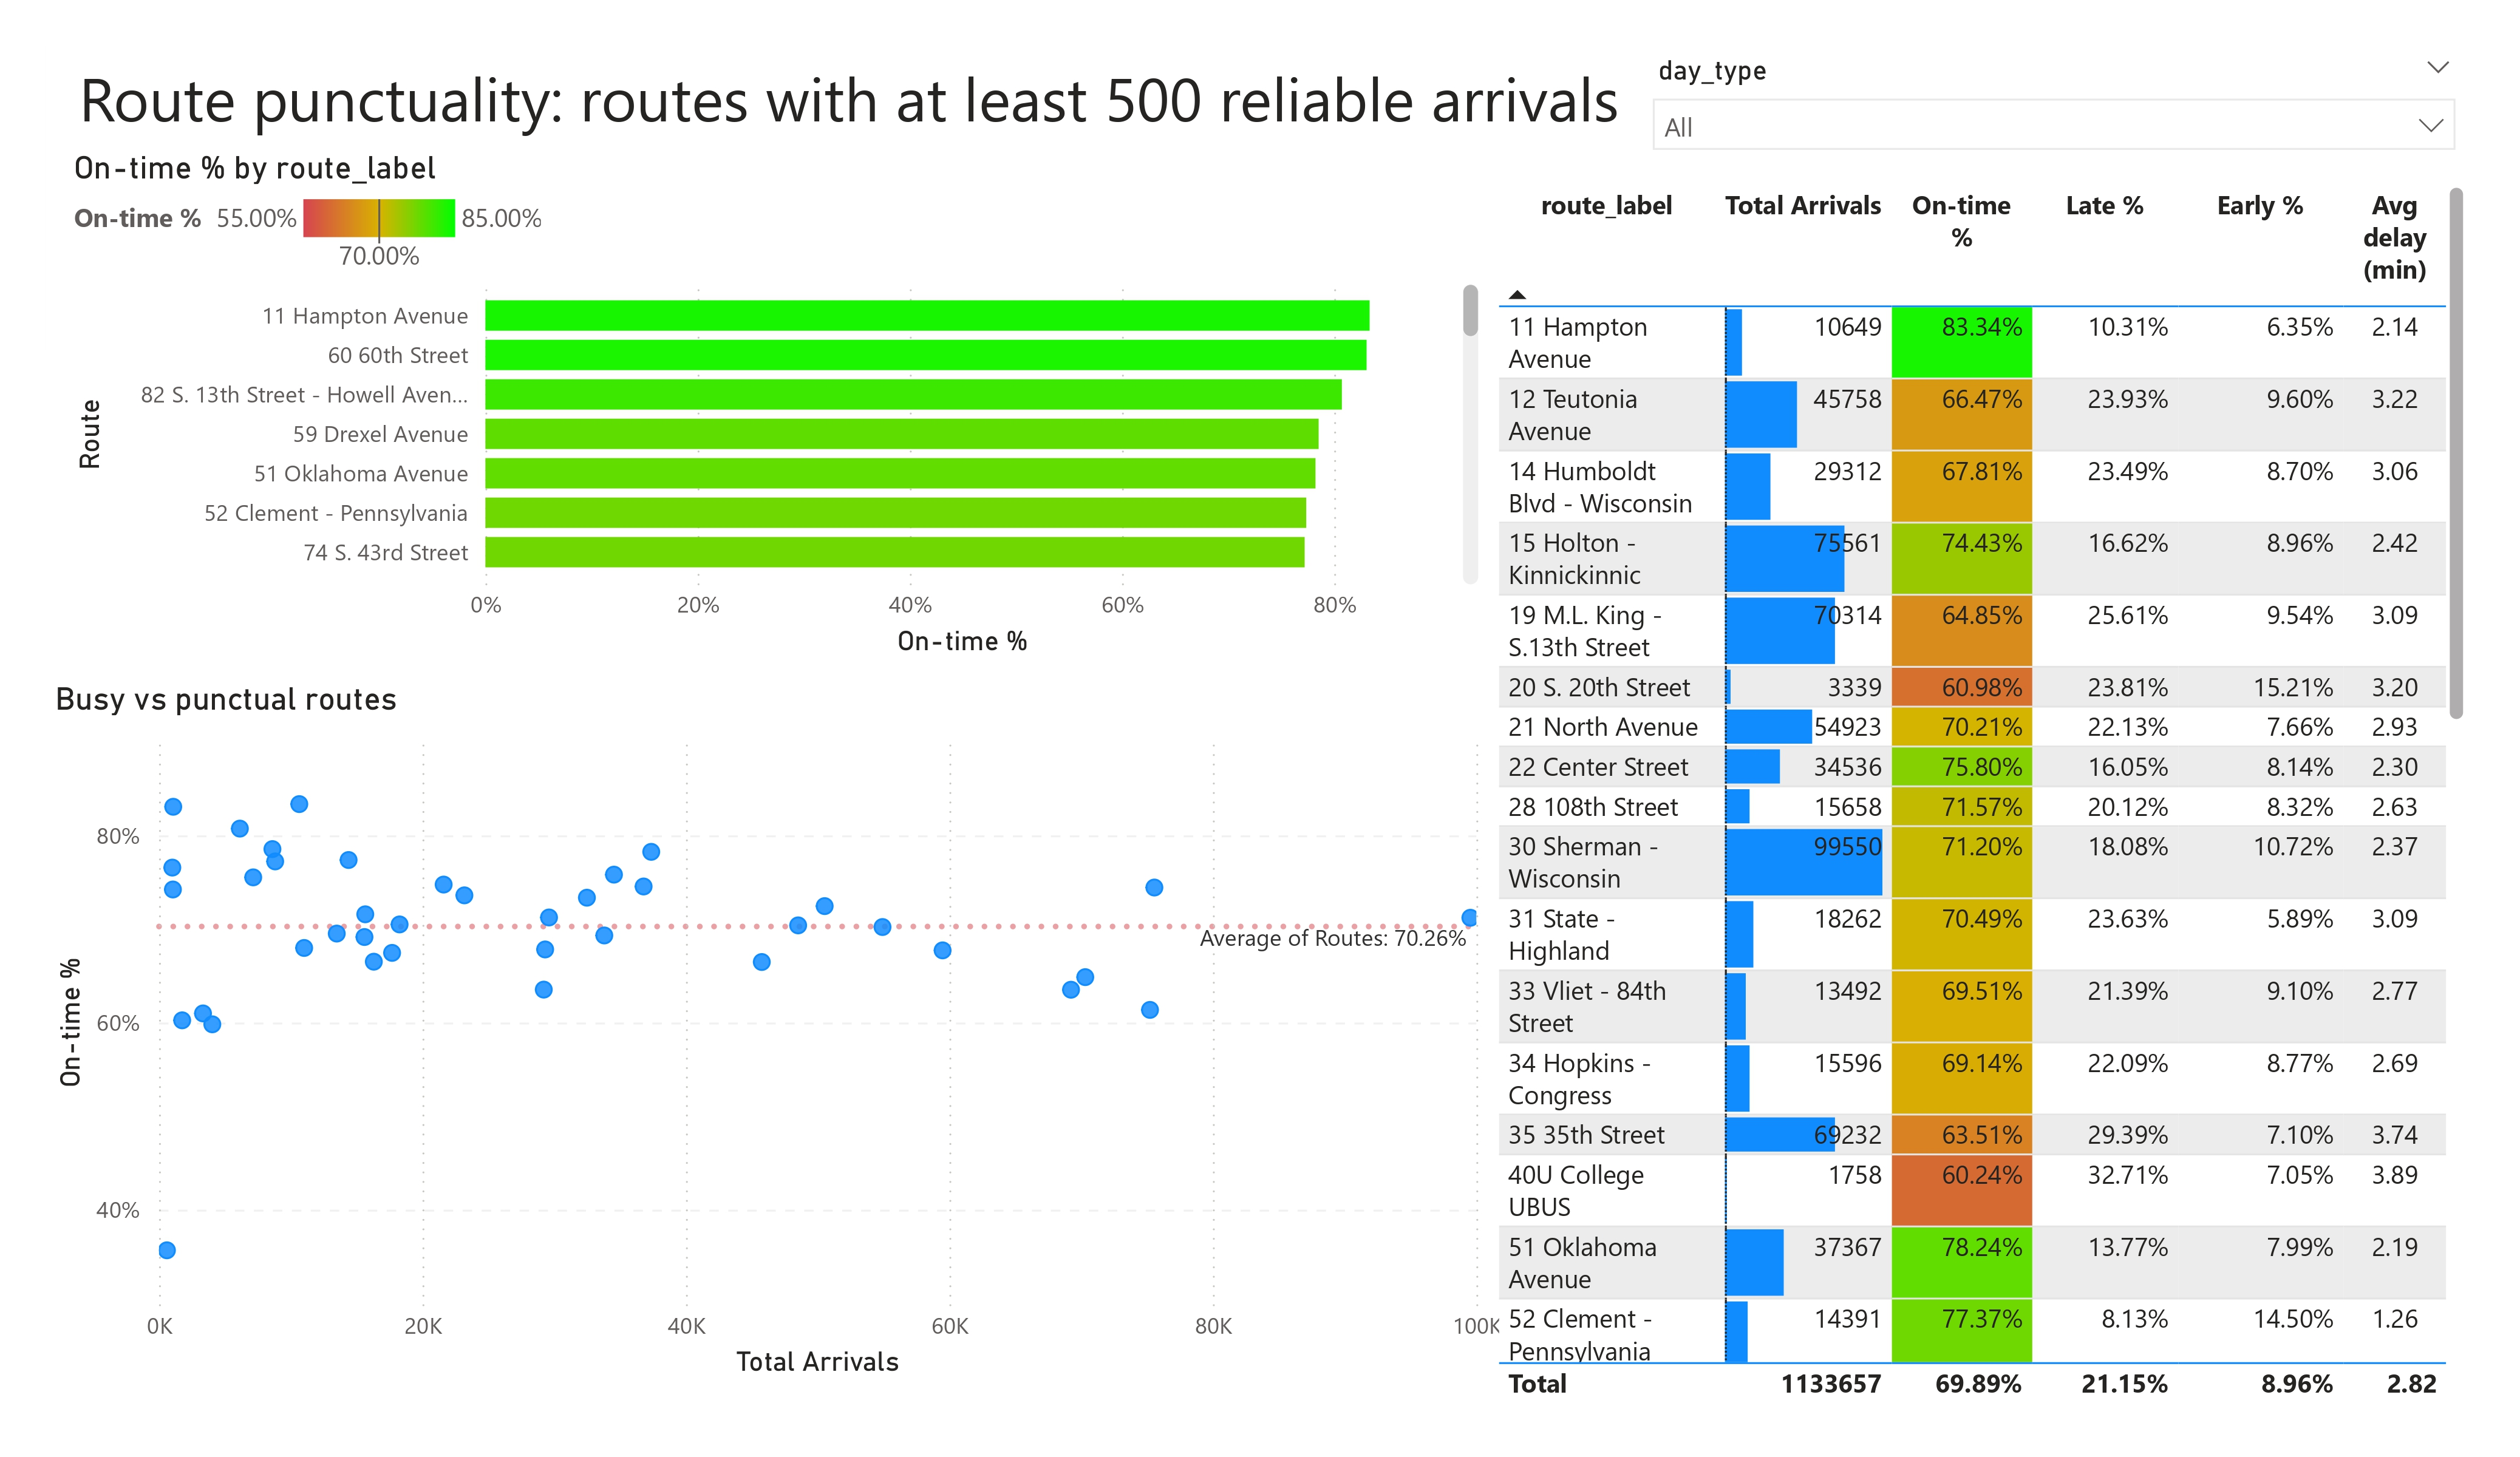

Layout of this report page (visuals, bound fields, positions):
{"tool":"powerbi","page":{"name":"Routes","canvas":[1280,720],"ordinal":1},"visuals":[{"type":"textbox","box":[9.6,0,827.4,54.9],"z":0},{"type":"clusteredBarChart","fields":{"Y":["_Measures.On-time %"],"Category":["dim_route.route_label"]},"box":[9.7,54.3,750.4,272.7],"z":1000},{"type":"scatterChart","title":"Busy vs punctual routes","fields":{"X":["_Measures.Total Arrivals"],"Y":["_Measures.On-time %"],"Category":["dim_route.route_label"]},"box":[0,334.2,773.3,372.8],"z":2000},{"type":"tableEx","fields":{"Values":["dim_route.route_label","_Measures.Total Arrivals","_Measures.On-time %","_Measures.Late %","_Measures.Early %","_Measures.Avg delay (min)"]},"box":[760.1,68.8,520,651.5],"z":3000},{"type":"slicer","fields":{"Values":["mart_route_daily.day_type"]},"box":[837.3,0,442.8,71.2],"z":4000}]}

Visuals, with their boxes on the page's 1280x720 design canvas (x1, y1, x2, y2). These are canvas units, not pixel positions in the 2520x1457 screenshot, which may show the page scaled, cropped or inside an application window:
textbox: (left=10, top=0, right=837, bottom=55)
clusteredBarChart - _Measures.On-time % x dim_route.route_label: (left=10, top=54, right=760, bottom=327)
"Busy vs punctual routes" scatterChart: (left=0, top=334, right=773, bottom=707)
tableEx - dim_route.route_label x _Measures.Total Arrivals: (left=760, top=69, right=1280, bottom=720)
slicer - mart_route_daily.day_type: (left=837, top=0, right=1280, bottom=71)
